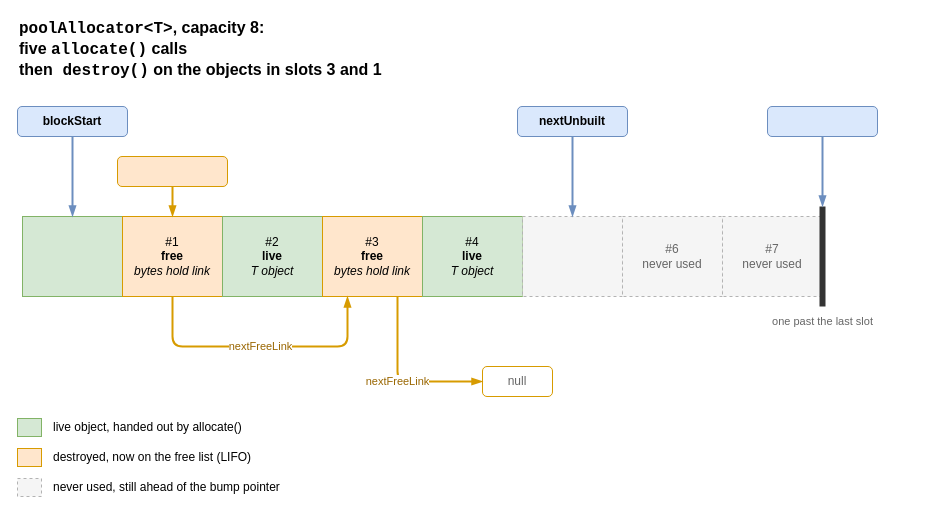
Some shapes in this 935 by 515 pixel diagram are drawn without their labels. Here are the shapes that lost their labels. From the top down, the centre of each, then its label:
(822,121): blockEnd
(172,171): freeListHead
(72,256): #0 live T object
(572,256): #5 never used
